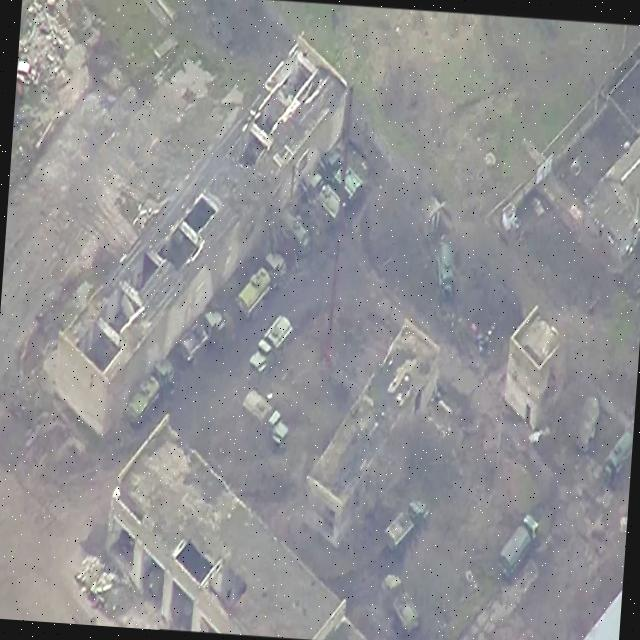Vehicle: (237, 253, 287, 327), (126, 356, 176, 430), (237, 391, 292, 456), (247, 315, 297, 382), (180, 302, 227, 371), (499, 511, 542, 585), (377, 571, 422, 636), (303, 176, 348, 235), (384, 499, 428, 559), (320, 149, 368, 204)
